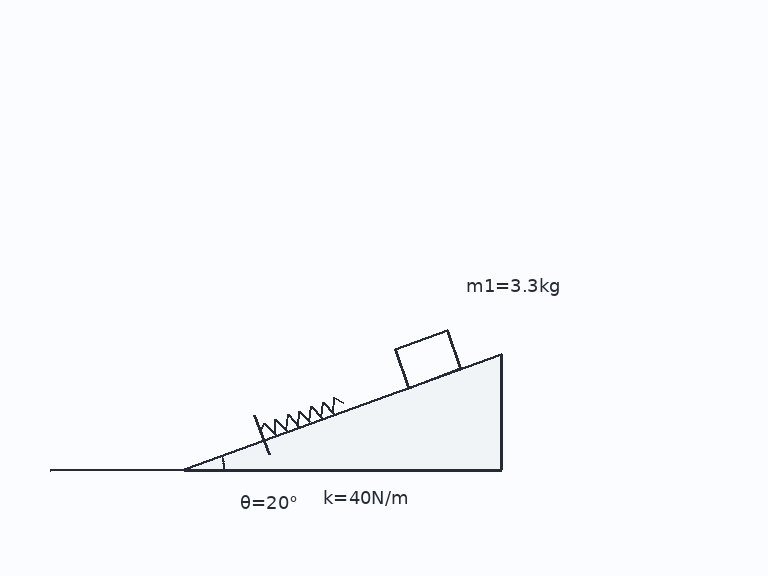block: (392, 328, 463, 389)
ramp: (182, 352, 503, 471)
spring: (258, 395, 344, 436)
